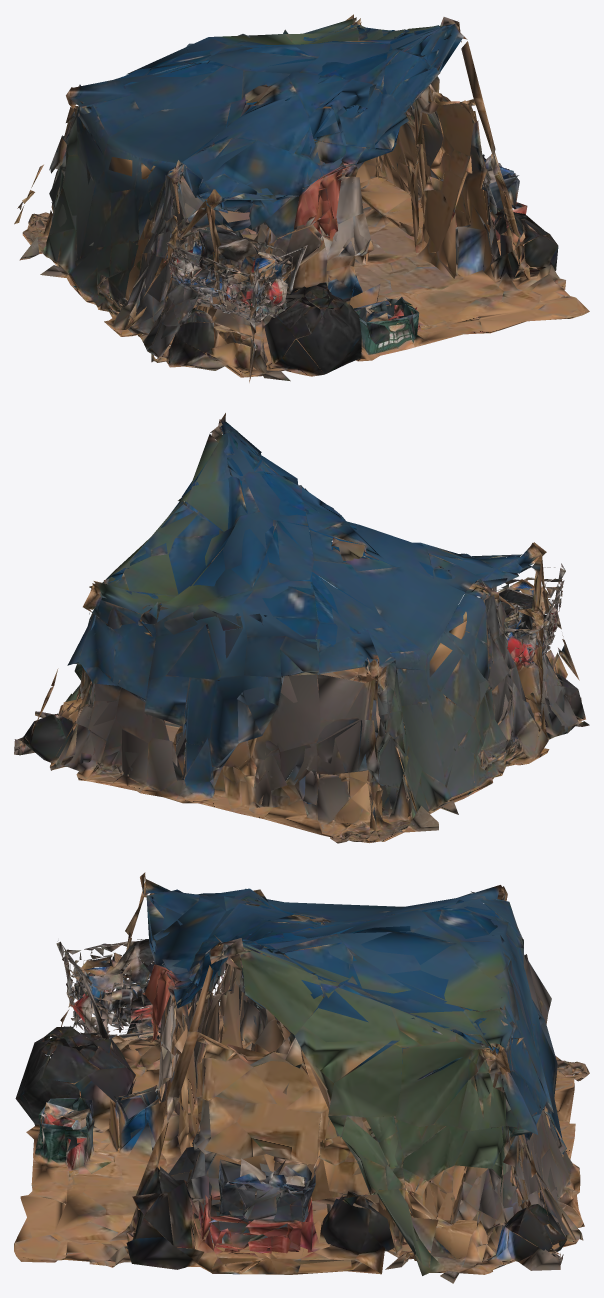
The model's file is cambuche.opt.glb.
3 renders of one model, top to bottom at view 1: azimuth 30°, elevation 25°; view 2: azimuth 150°, elevation 25°; view 3: azimuth 270°, elevation 25°, orthographic. The views are drawn at different scales.
Visible parts, largest first — view 1: Mesh_0; view 2: Mesh_0; view 3: Mesh_0.
Part boxes in pixels (x1,y1,x2,y2): Mesh_0: (14,14,589,382); Mesh_0: (14,413,589,843); Mesh_0: (14,872,589,1283).
Size of the model in its own units: 1.8 by 1.01 by 1.77.
Materials: 1 (1 with a texture image).
